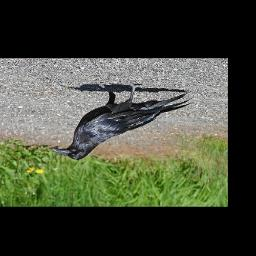Crow: (52, 80, 196, 160)
